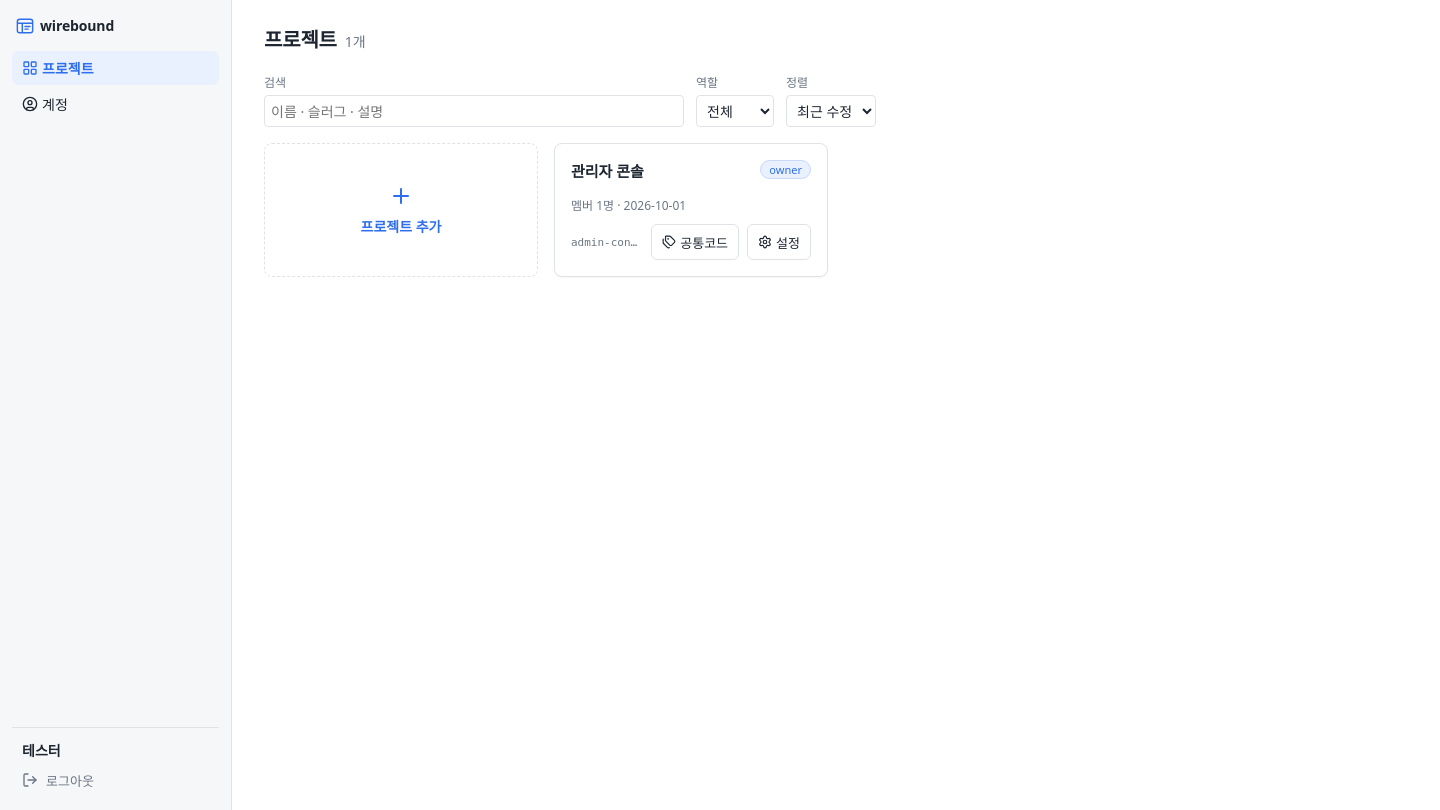
Test: 프로젝트 만들기 › 만든 프로젝트로 이동한다
Expected: the link "관리자 콘솔" is shown, [571,160,665,182]
Click the button "프로젝트 추가". click: (401, 210)
box: [265,144,537,276]
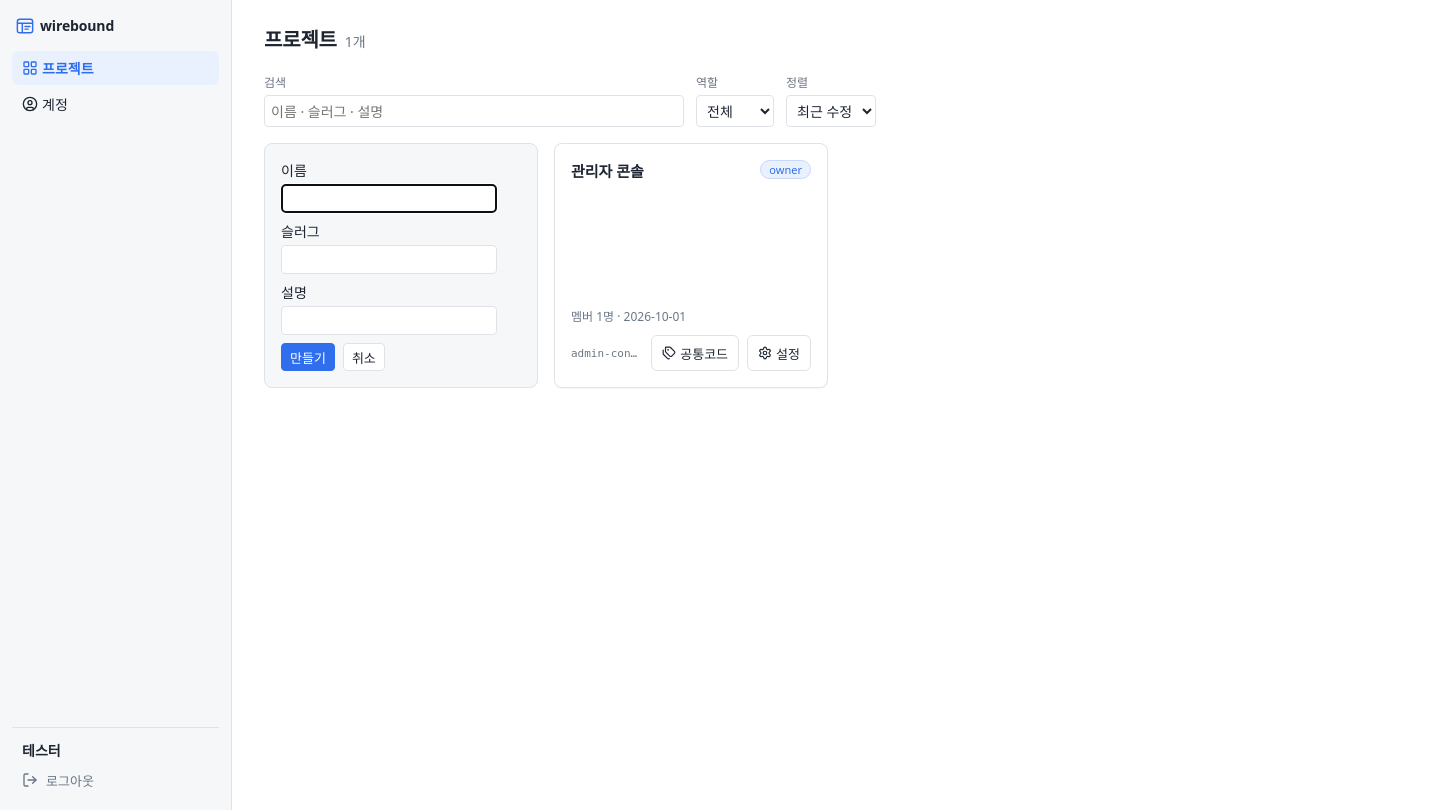
Expected: the field labelled "이름" is shown
Type "고객 포털" into the field labelled "이름". click: (389, 198)
box: [281,184,497,213]
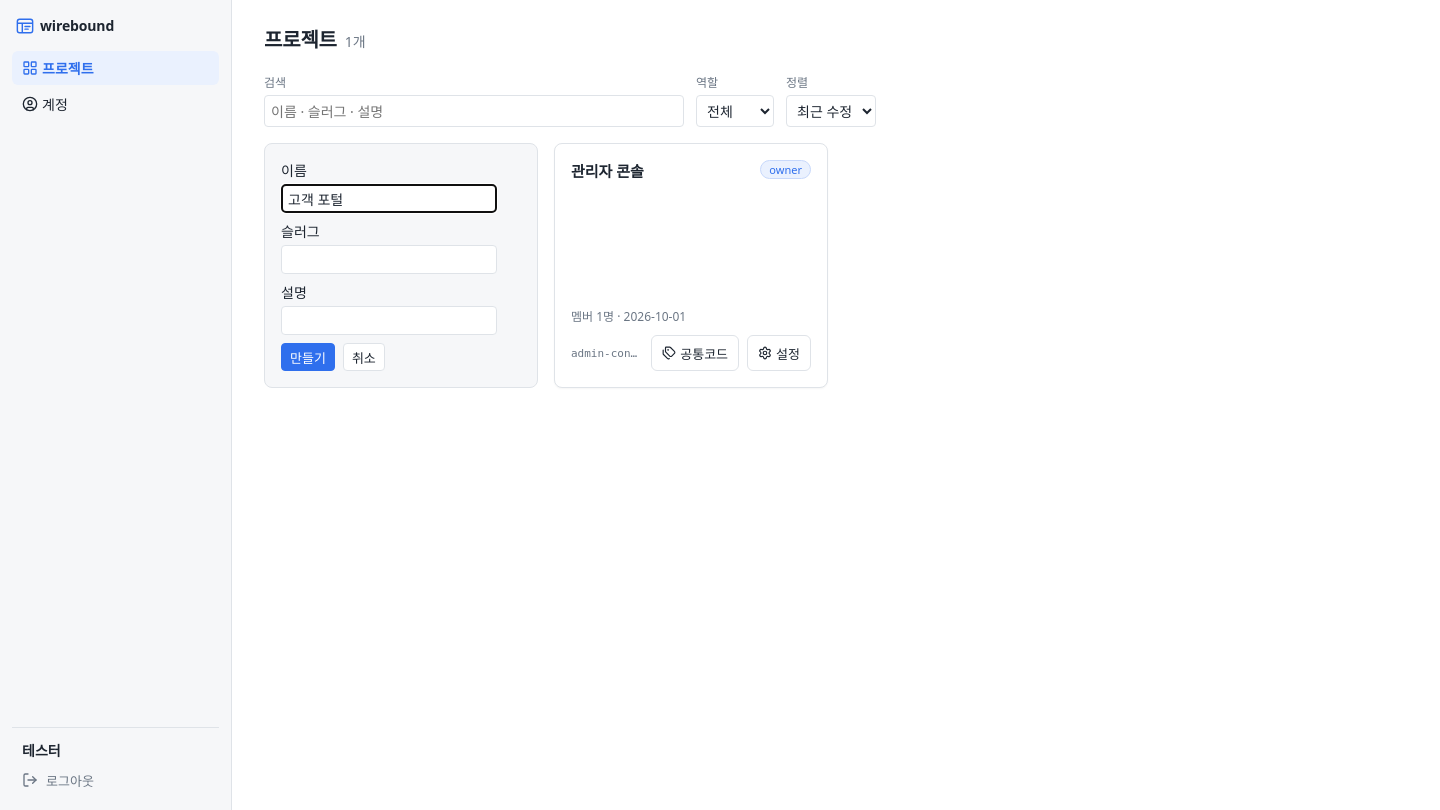
Type "portal" into the field labelled "슬러그". click: (389, 260)
box: [281,245,497,274]
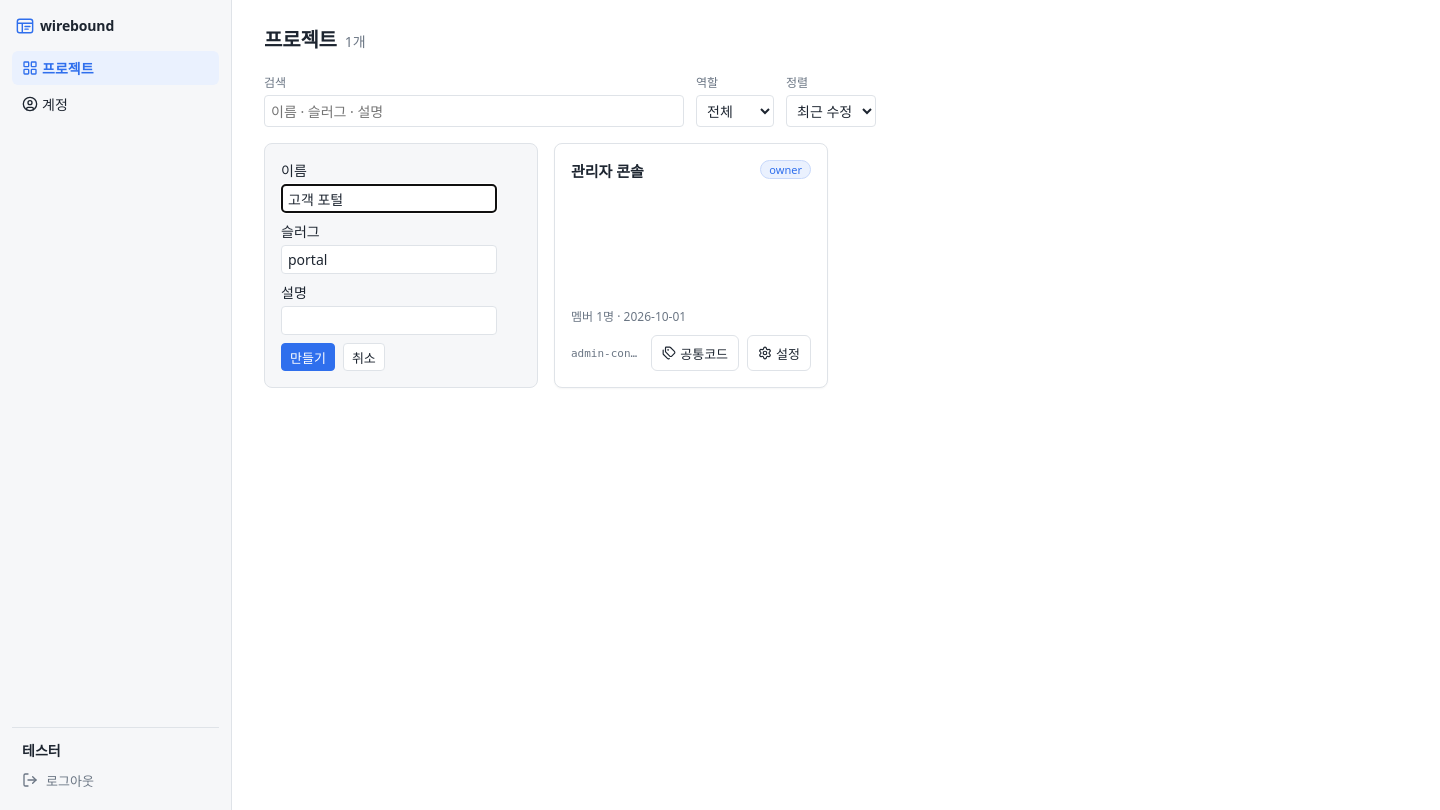
Click the button "만들기". click: (308, 357)
box: [281,343,335,371]
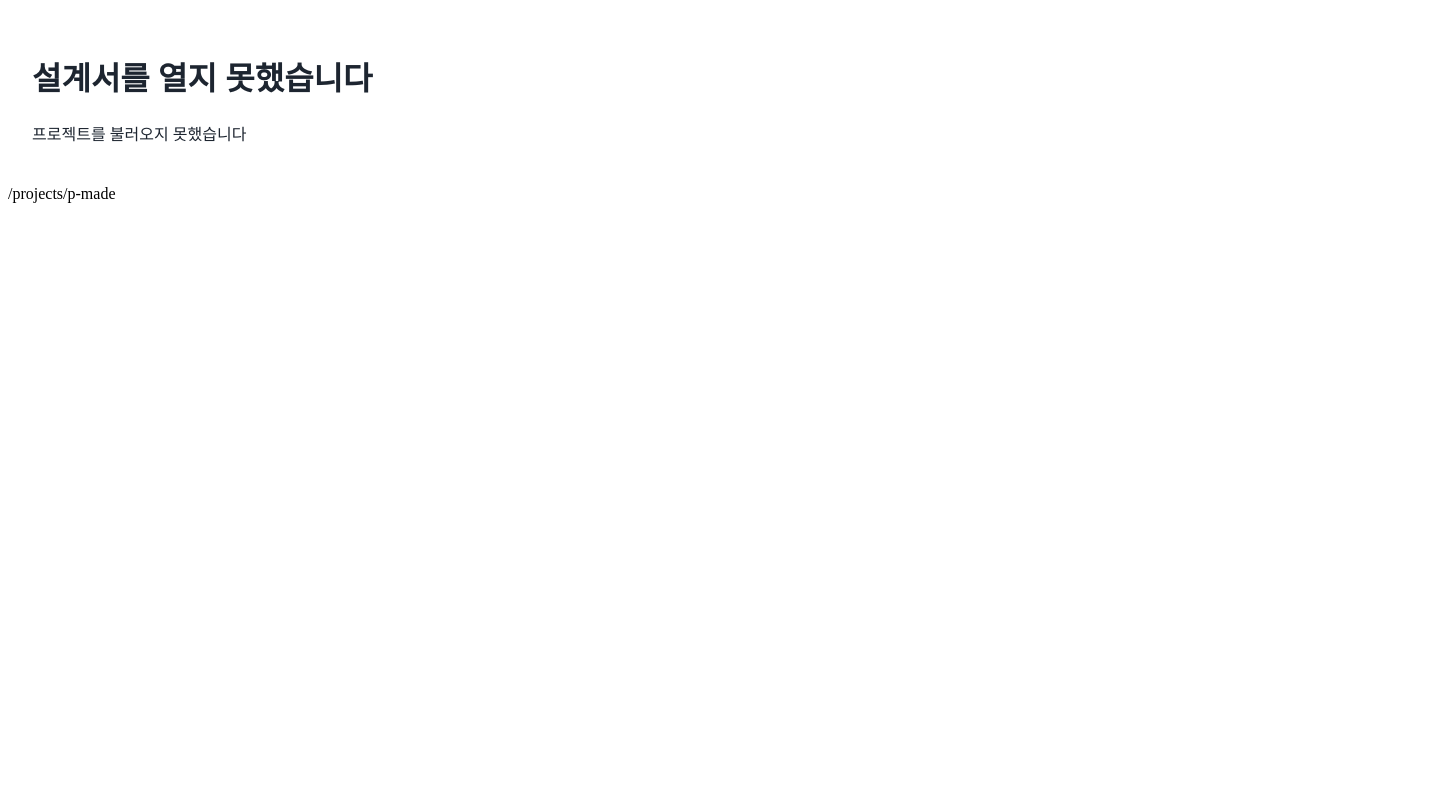
Expected: the text with test id "location-probe" reads "/projects/p-made", [8,185,116,202]
